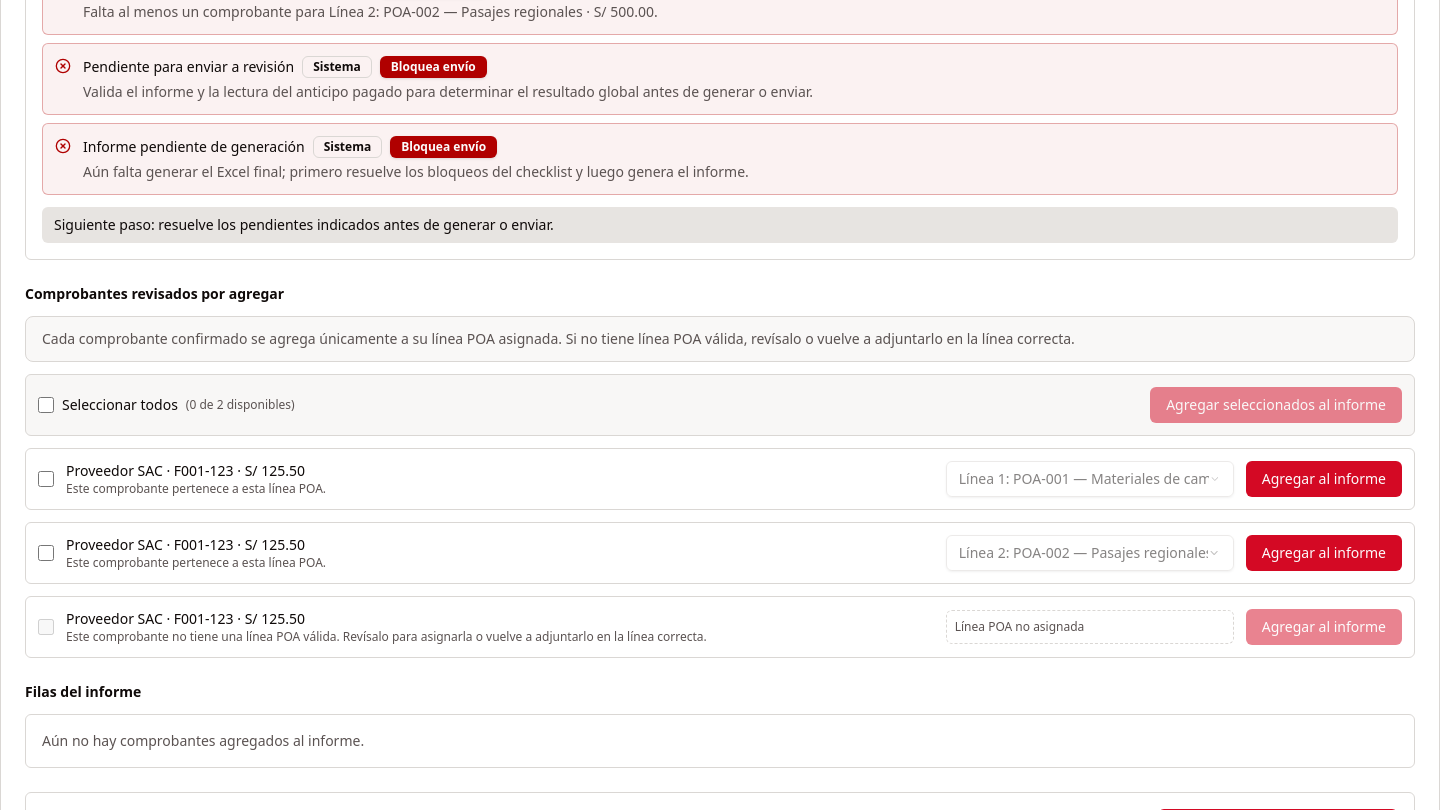
Scenario: StructuredRenditionReportCard › selecciona todos los comprobantes agregables y los agrega secuencialmente
The image size is (1440, 810).
(page scrolled)
What coordinates should you click on to do the following:
click the checkbox labelled "Seleccionar todos (0 de 2 disponibles)"
I would click on:
 (46, 405)
Its box is [38,397,54,413].
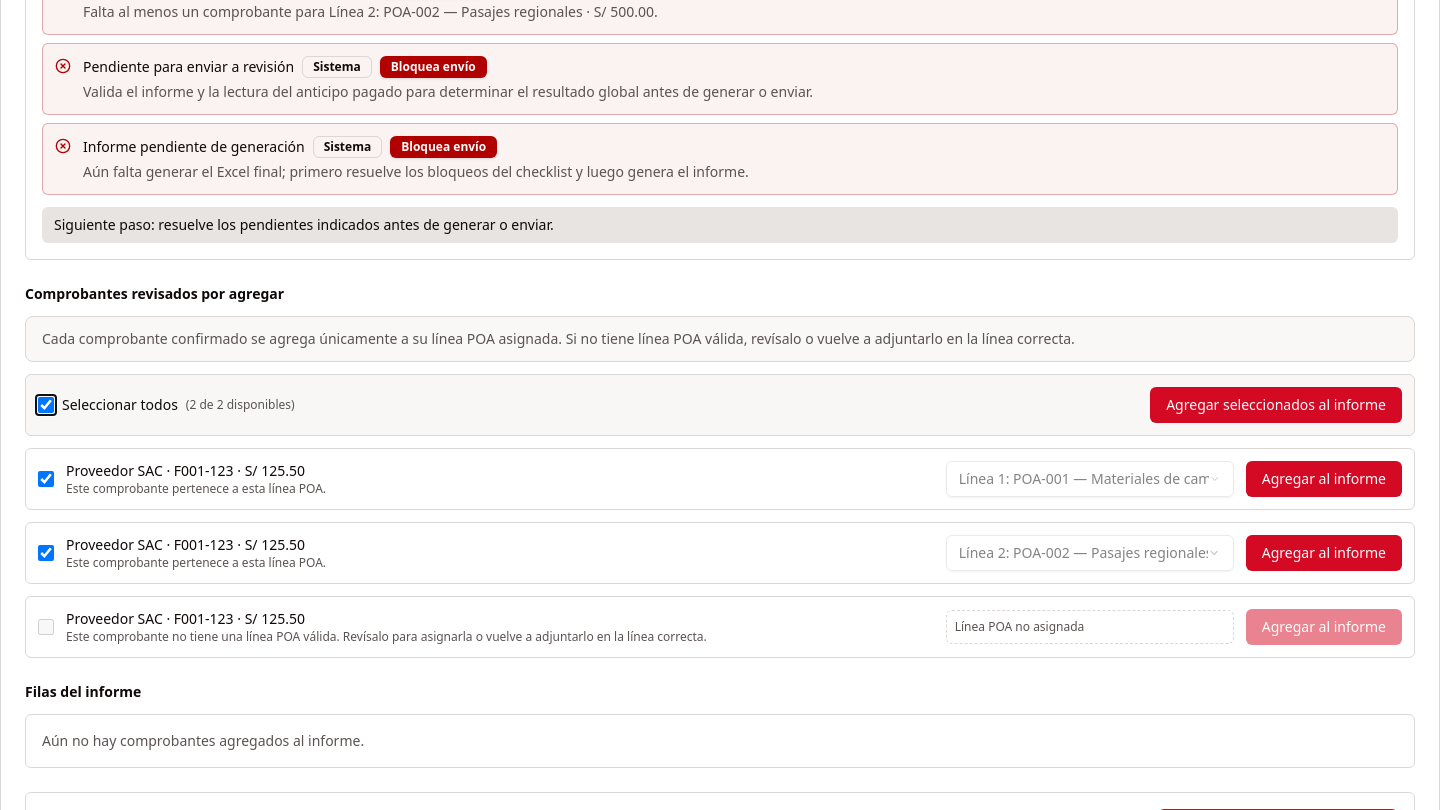
Expected: the checkbox named "Seleccionar Proveedor SAC · F001-123 · S/ 125.50" in the row of "Línea POA no asignada" is disabled, [38,619,54,635]
Now the 1st checkbox named "Seleccionar Proveedor SAC · F001-123 · S/ 125.50" is checked, box [38,471,54,487]
Now the 2nd checkbox named "Seleccionar Proveedor SAC · F001-123 · S/ 125.50" is checked, box [38,545,54,561]
What coordinates should you click on to do the following:
click the button "Agregar seleccionados al informe"
I would click on:
 (1276, 405)
Its box is [1150,387,1402,423].
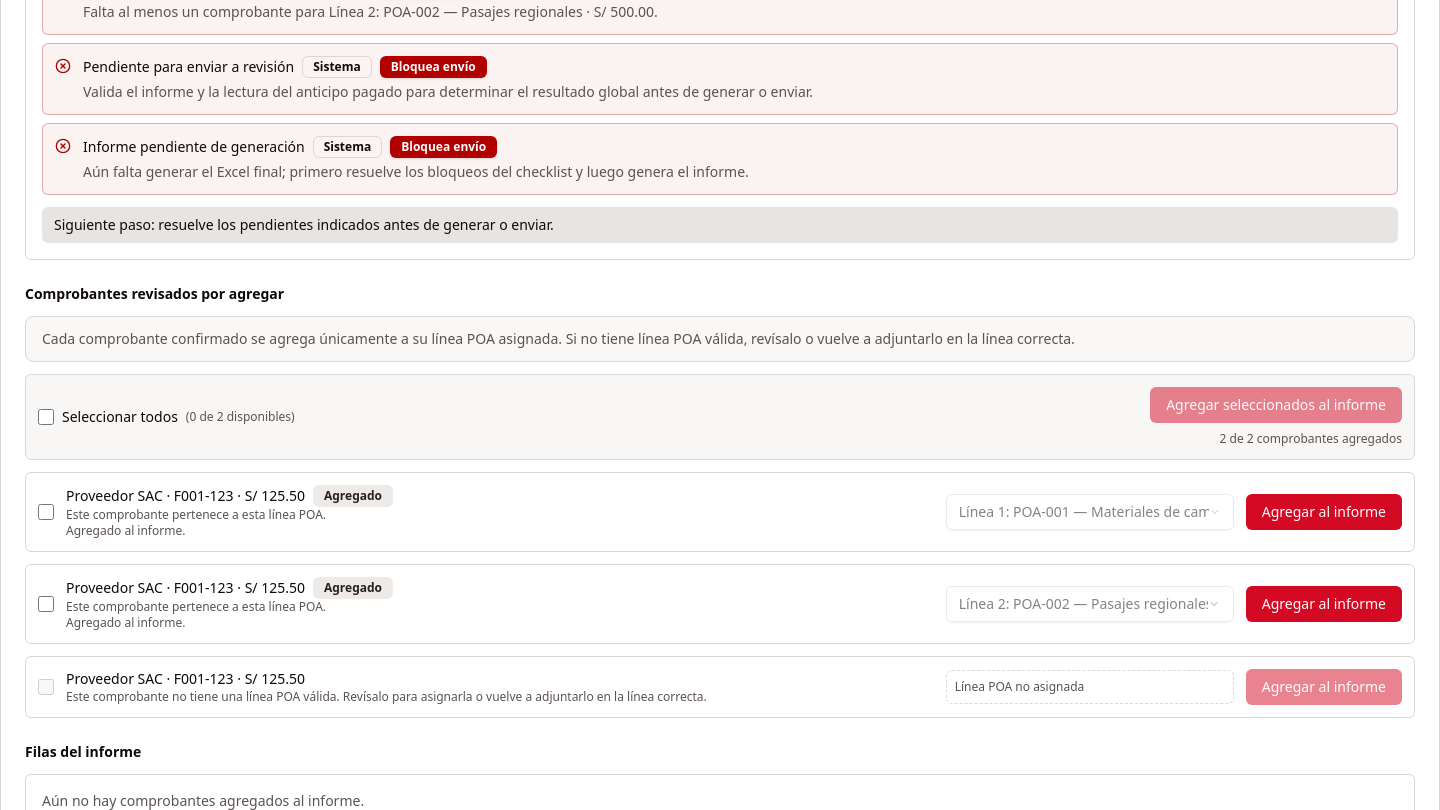
Now the text "2 de 2 comprobantes agregados" is shown, box [1220,431,1402,447]
